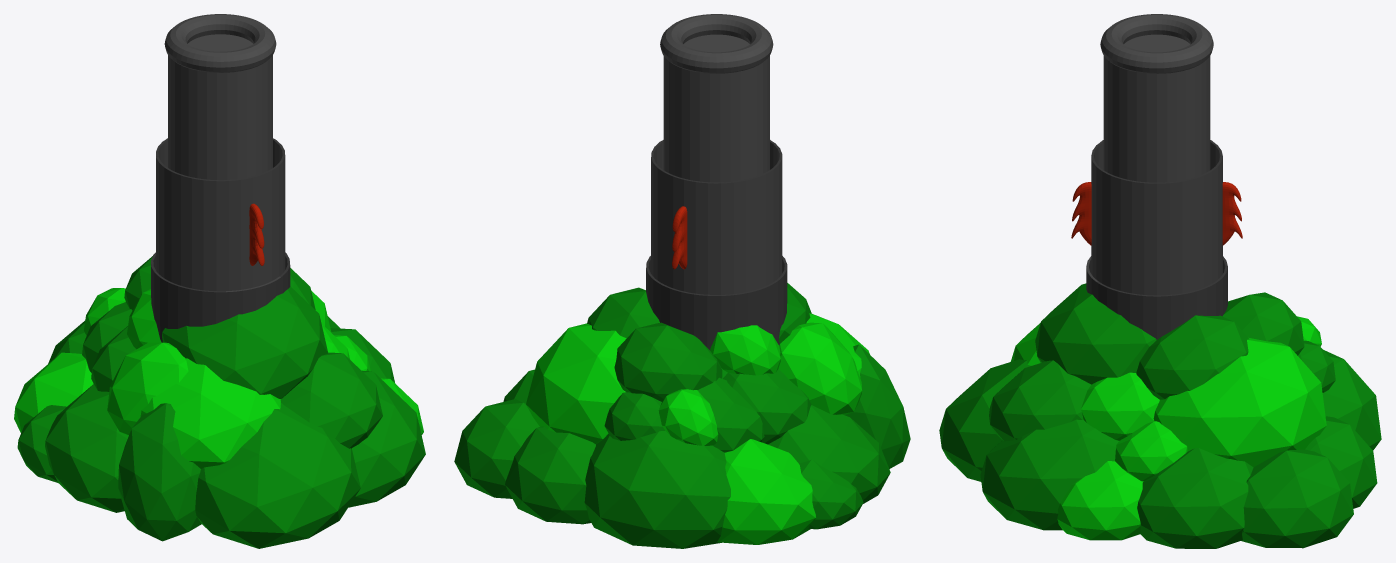
The model's file is BigMortier.fbx.
3 renders of one model, left to right at view 1: azimuth 30°, elevation 25°; view 2: azimuth 150°, elevation 25°; view 3: azimuth 270°, elevation 25°, orthographic.
Parts seen in each view (by area): view 1: Circle.004, Bush.027, Bush.046, Bush.042, Bush.040, Bush.041, Bush.051, Bush.043, Bush.047, Bush.028, Bush.029, Bush.036 (+8 smaller); view 2: Circle.004, Bush.035, Bush.030, Bush.028, Bush.033, Bush.039, Bush.041, Bush.047, Bush.034, Bush.042, Bush.049, Bush.050 (+8 smaller); view 3: Circle.004, Bush.030, Bush.043, Bush.031, Bush.034, Bush.046, Bush.048, Bush.051, Bush.032, Bush.027, Bush.044, Bush.033 (+6 smaller).
Part boxes in pixels (<box>): Circle.004: <box>151,14,290,342</box>; Bush.027: <box>195,403,360,548</box>; Bush.046: <box>162,286,328,398</box>; Bush.042: <box>118,403,201,541</box>; Bush.040: <box>140,358,280,468</box>; Bush.041: <box>45,384,128,512</box>; Bush.051: <box>280,352,382,448</box>; Bush.043: <box>348,370,425,507</box>; Bush.047: <box>107,342,188,436</box>; Bush.028: <box>14,352,93,432</box>; Bush.029: <box>17,405,66,482</box>; Bush.036: <box>82,302,132,372</box>; Circle.004: <box>646,14,787,350</box>; Bush.035: <box>584,431,730,548</box>; Bush.030: <box>526,323,626,443</box>; Bush.028: <box>717,439,816,544</box>; Bush.033: <box>505,426,595,524</box>; Bush.039: <box>614,322,722,401</box>; Bush.041: <box>768,405,890,503</box>; Bush.047: <box>778,322,862,414</box>; Bush.034: <box>454,399,539,498</box>; Bush.042: <box>845,344,910,468</box>; Bush.049: <box>722,369,811,444</box>; Bush.050: <box>710,325,780,375</box>; Circle.004: <box>1086,14,1227,339</box>; Bush.030: <box>1153,337,1326,467</box>; Bush.043: <box>980,419,1119,530</box>; Bush.031: <box>1137,448,1253,548</box>; Bush.034: <box>1241,449,1353,548</box>; Bush.046: <box>1035,283,1156,384</box>; Bush.048: <box>1136,315,1249,399</box>; Bush.051: <box>989,360,1091,441</box>; Bush.032: <box>1057,461,1143,540</box>; Bush.027: <box>939,359,1030,481</box>; Bush.044: <box>1081,372,1159,440</box>; Bush.033: <box>1305,416,1377,508</box>.
Size of the model in its own units: 7.14 by 6.69 by 7.86.
